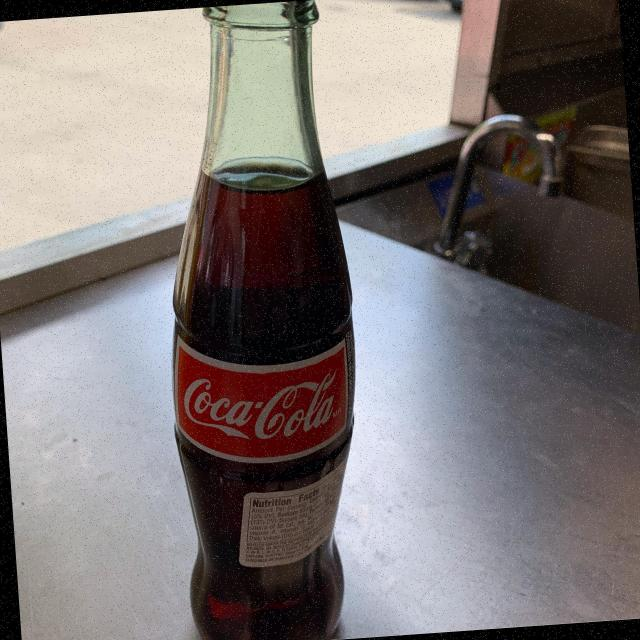coca-cola: (142, 0, 384, 640)
